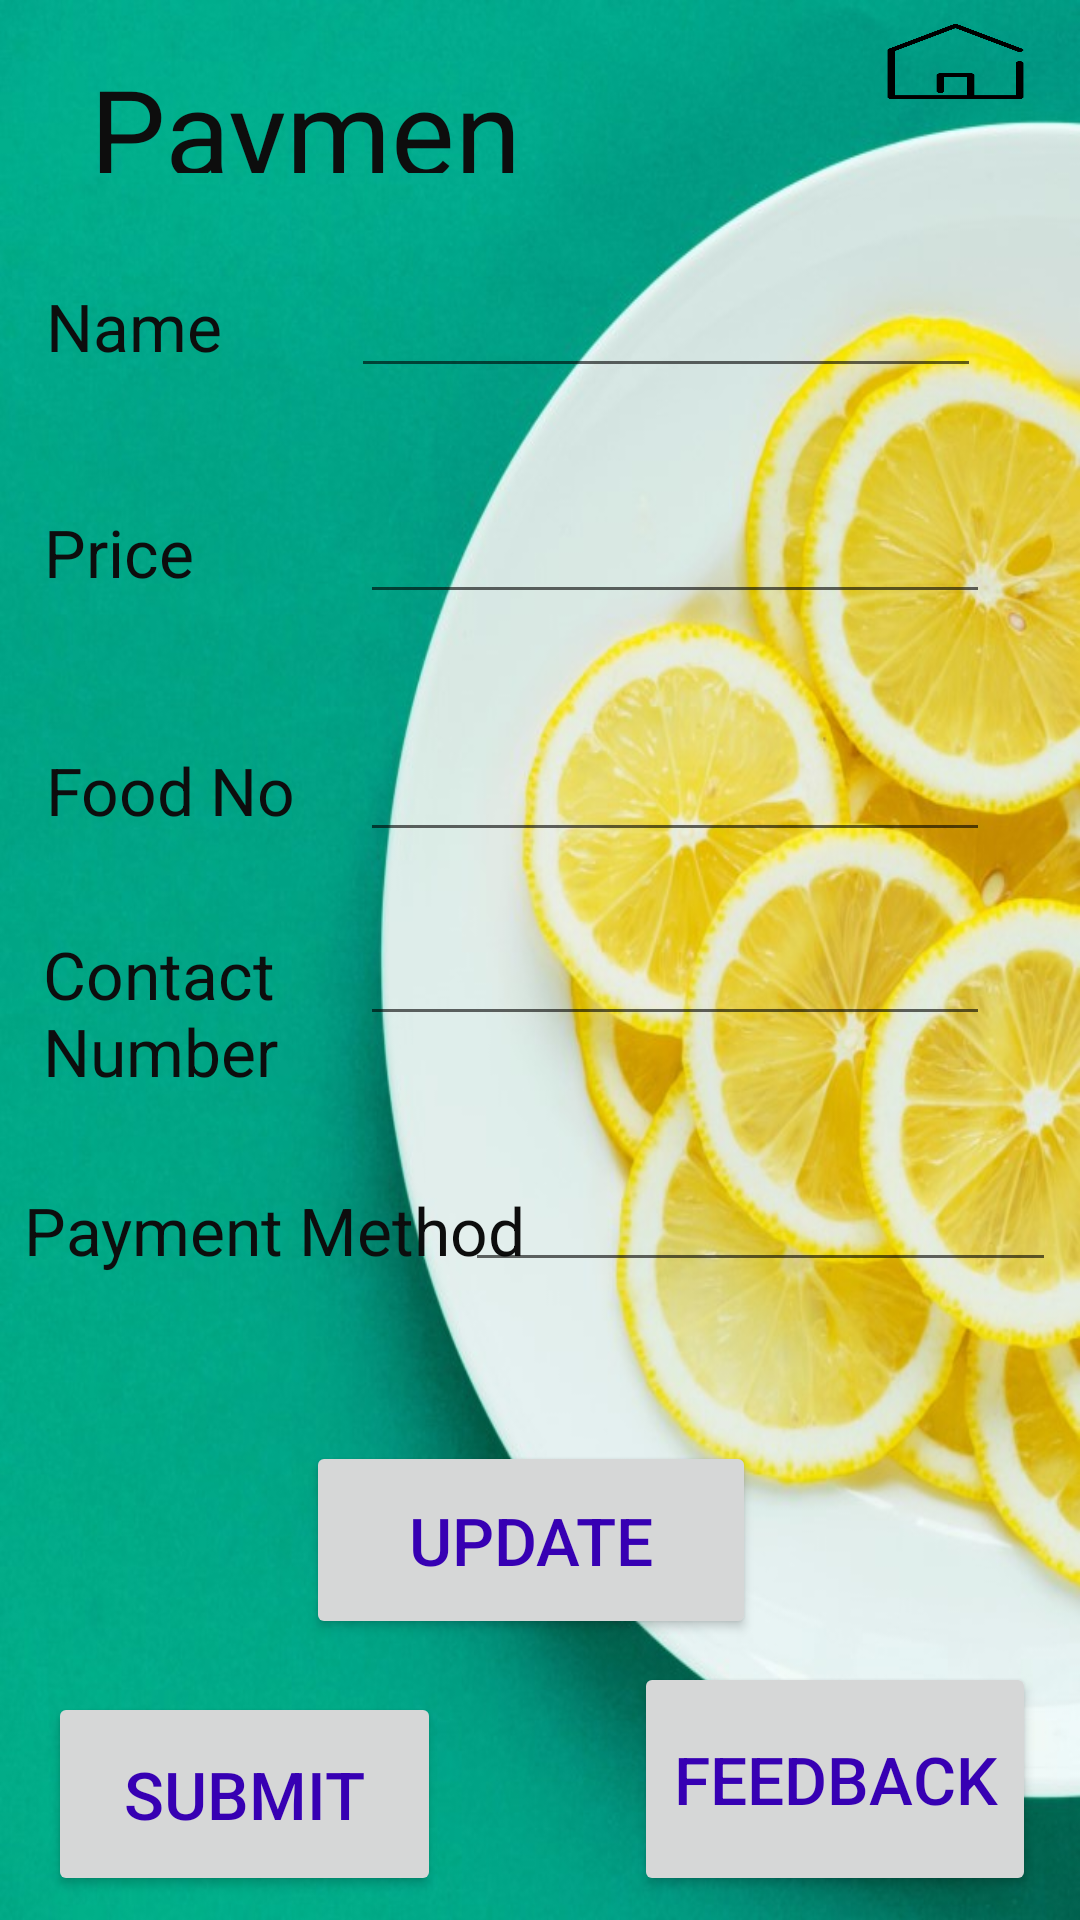

Icon bounding boxes for this 1080px×1920px phone screenshot, format (x1, y1, x2, y2):
home: (887, 24, 1024, 99)
